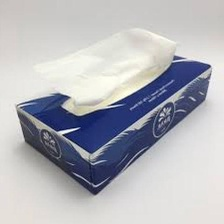book: (9, 47, 217, 201)
tissue: (26, 20, 182, 112)
